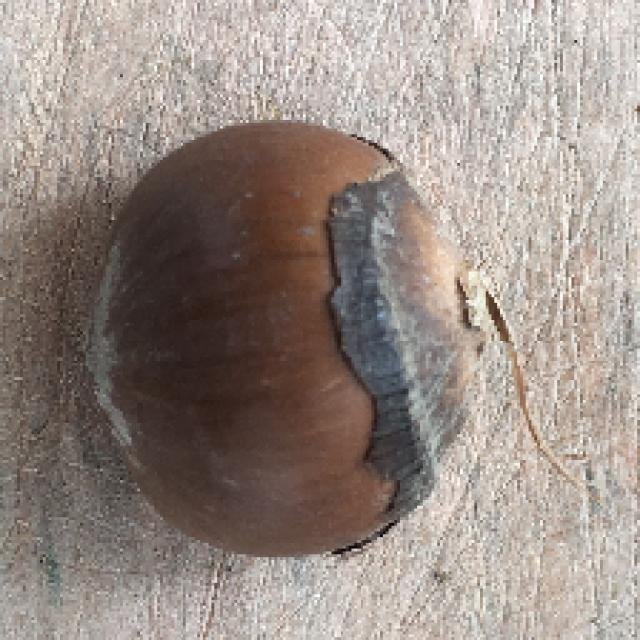DamagedHazelnut: (86, 115, 482, 555)
